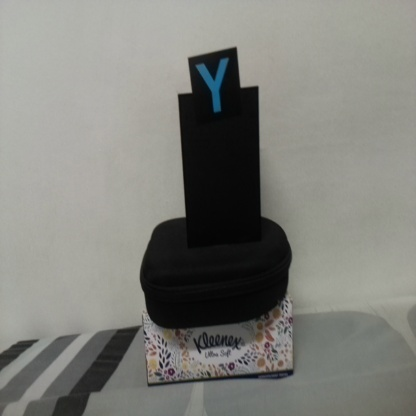id_14: (188, 56, 240, 126)
